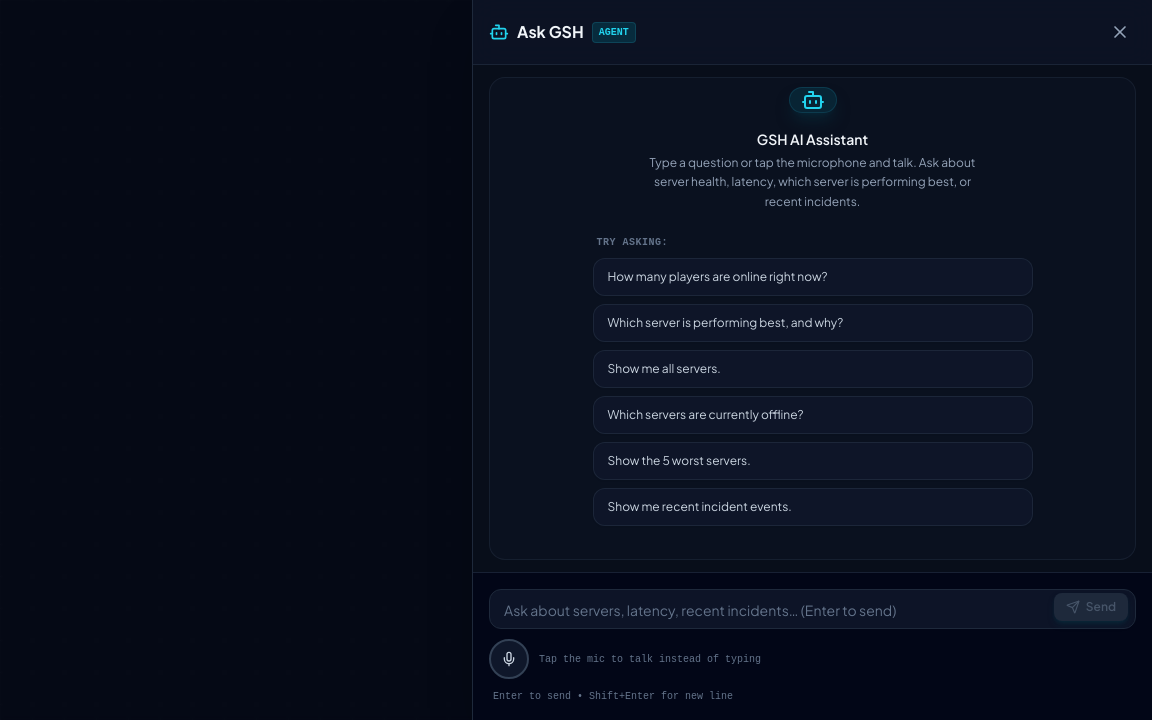
it: AskPanel › surfaces a failed voice handshake without losing the chat
(page scrolled)
Click the button named "Start voice session".
click(509, 659)  # box x1=489 y1=639 x2=529 y2=679
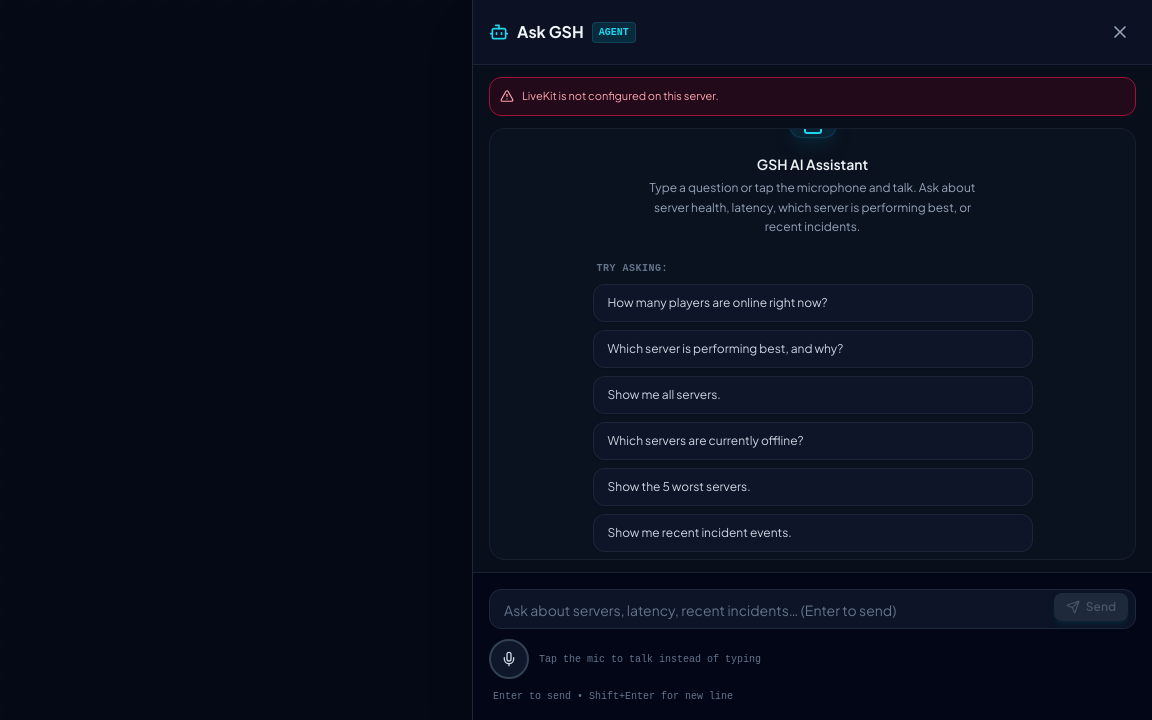
Expected: the text box with placeholder "Ask about servers" is shown, x1=489 y1=589 x2=1136 y2=629
Result: the text "LiveKit is not configured on this server." is shown at x1=522 y1=88 x2=719 y2=104
